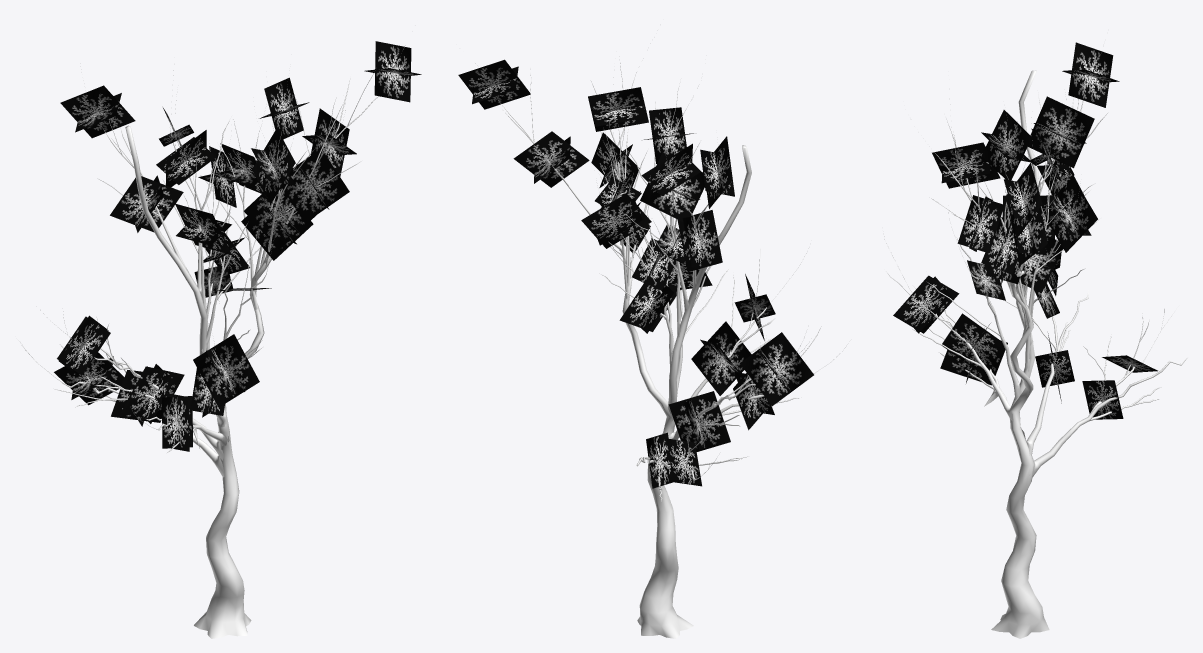
Rendered from CrookedTree.glb.
3 renders of one model, left to right at view 1: azimuth 30°, elevation 25°; view 2: azimuth 150°, elevation 25°; view 3: azimuth 270°, elevation 25°, orthographic.
Visible parts, largest first — view 1: sprite_0099_1, _0; view 2: sprite_0099_1, _0; view 3: sprite_0099_1, _0.
Part boxes in pixels (box(x1,y1,x2,y2)): sprite_0099_1: box(54, 41, 421, 451); _0: box(19, 45, 405, 638); sprite_0099_1: box(458, 59, 813, 488); _0: box(475, 43, 845, 638); sprite_0099_1: box(893, 42, 1157, 419); _0: box(883, 65, 1187, 638).
Bounding box in the file's own units: 4.02 × 5.82 × 2.87.
Materials: 2 (1 with a texture image).
